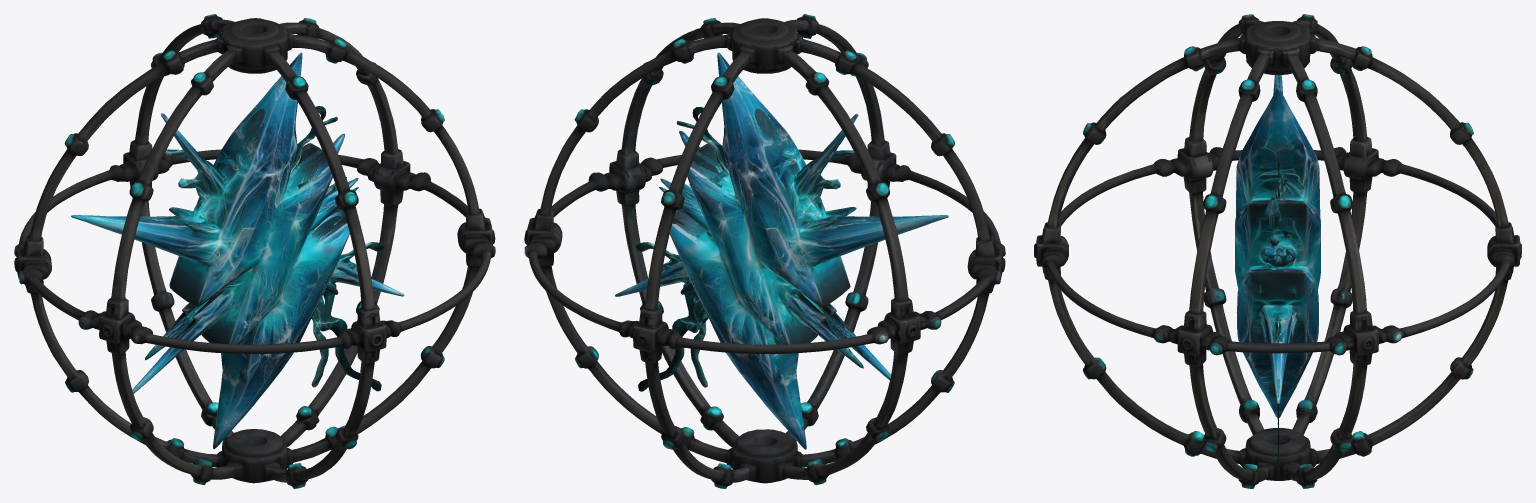
File: shunt.glb
3 views of the same model, side by side, from view 1: azimuth 30°, elevation 25°; view 2: azimuth 150°, elevation 25°; view 3: azimuth 270°, elevation 25° (orthographic).
Visible parts, largest first — view 1: geometry_0.001; view 2: geometry_0.001; view 3: geometry_0.001.
Part boxes in pixels (x1,y1,x2,y2): geometry_0.001: [14, 14, 495, 488]; geometry_0.001: [524, 14, 1005, 488]; geometry_0.001: [1034, 14, 1521, 488].
Size of the model in its own units: 1.91 by 1.98 by 1.98.
Materials: 1 (1 with a texture image).
